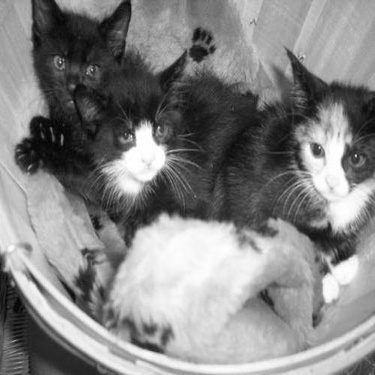cat: (15, 75, 256, 219), (244, 40, 367, 301), (1, 1, 189, 104)
